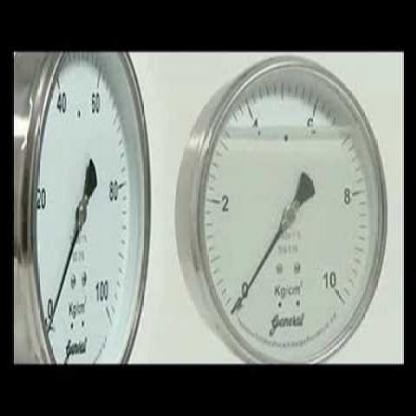needle: (234, 226, 284, 313)
